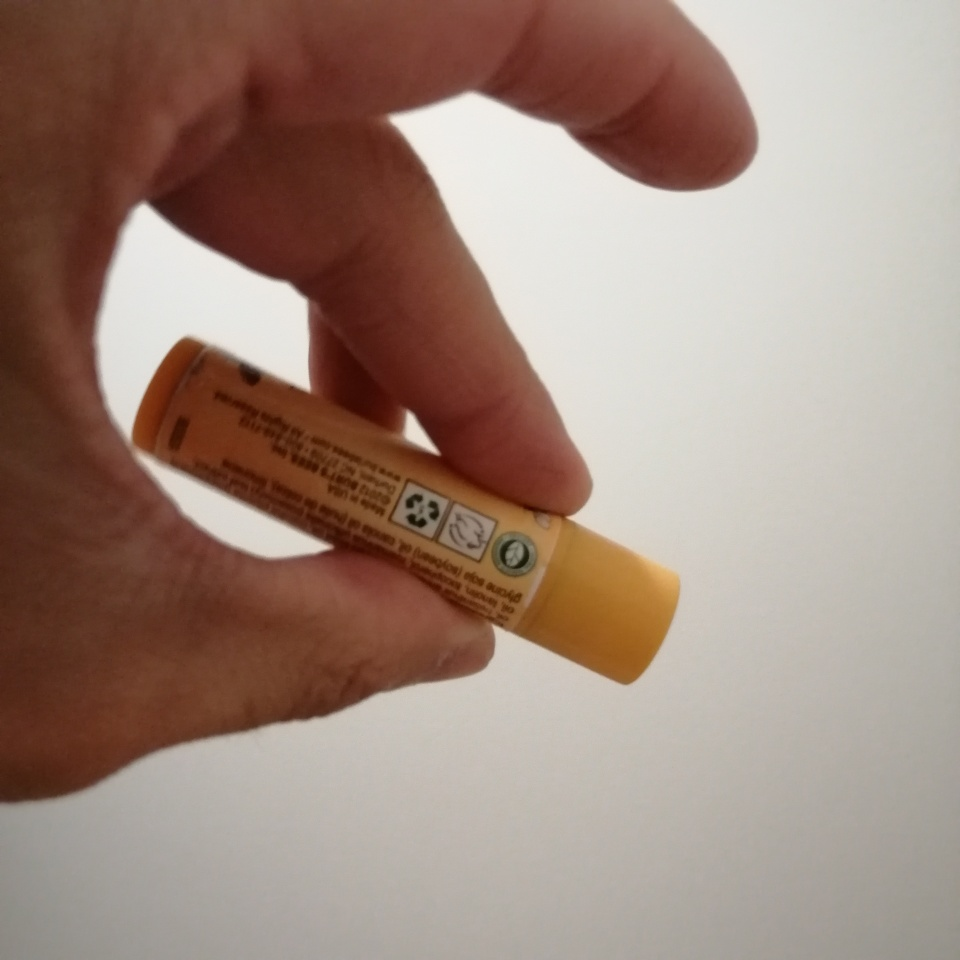chapstick: (131, 336, 683, 687)
